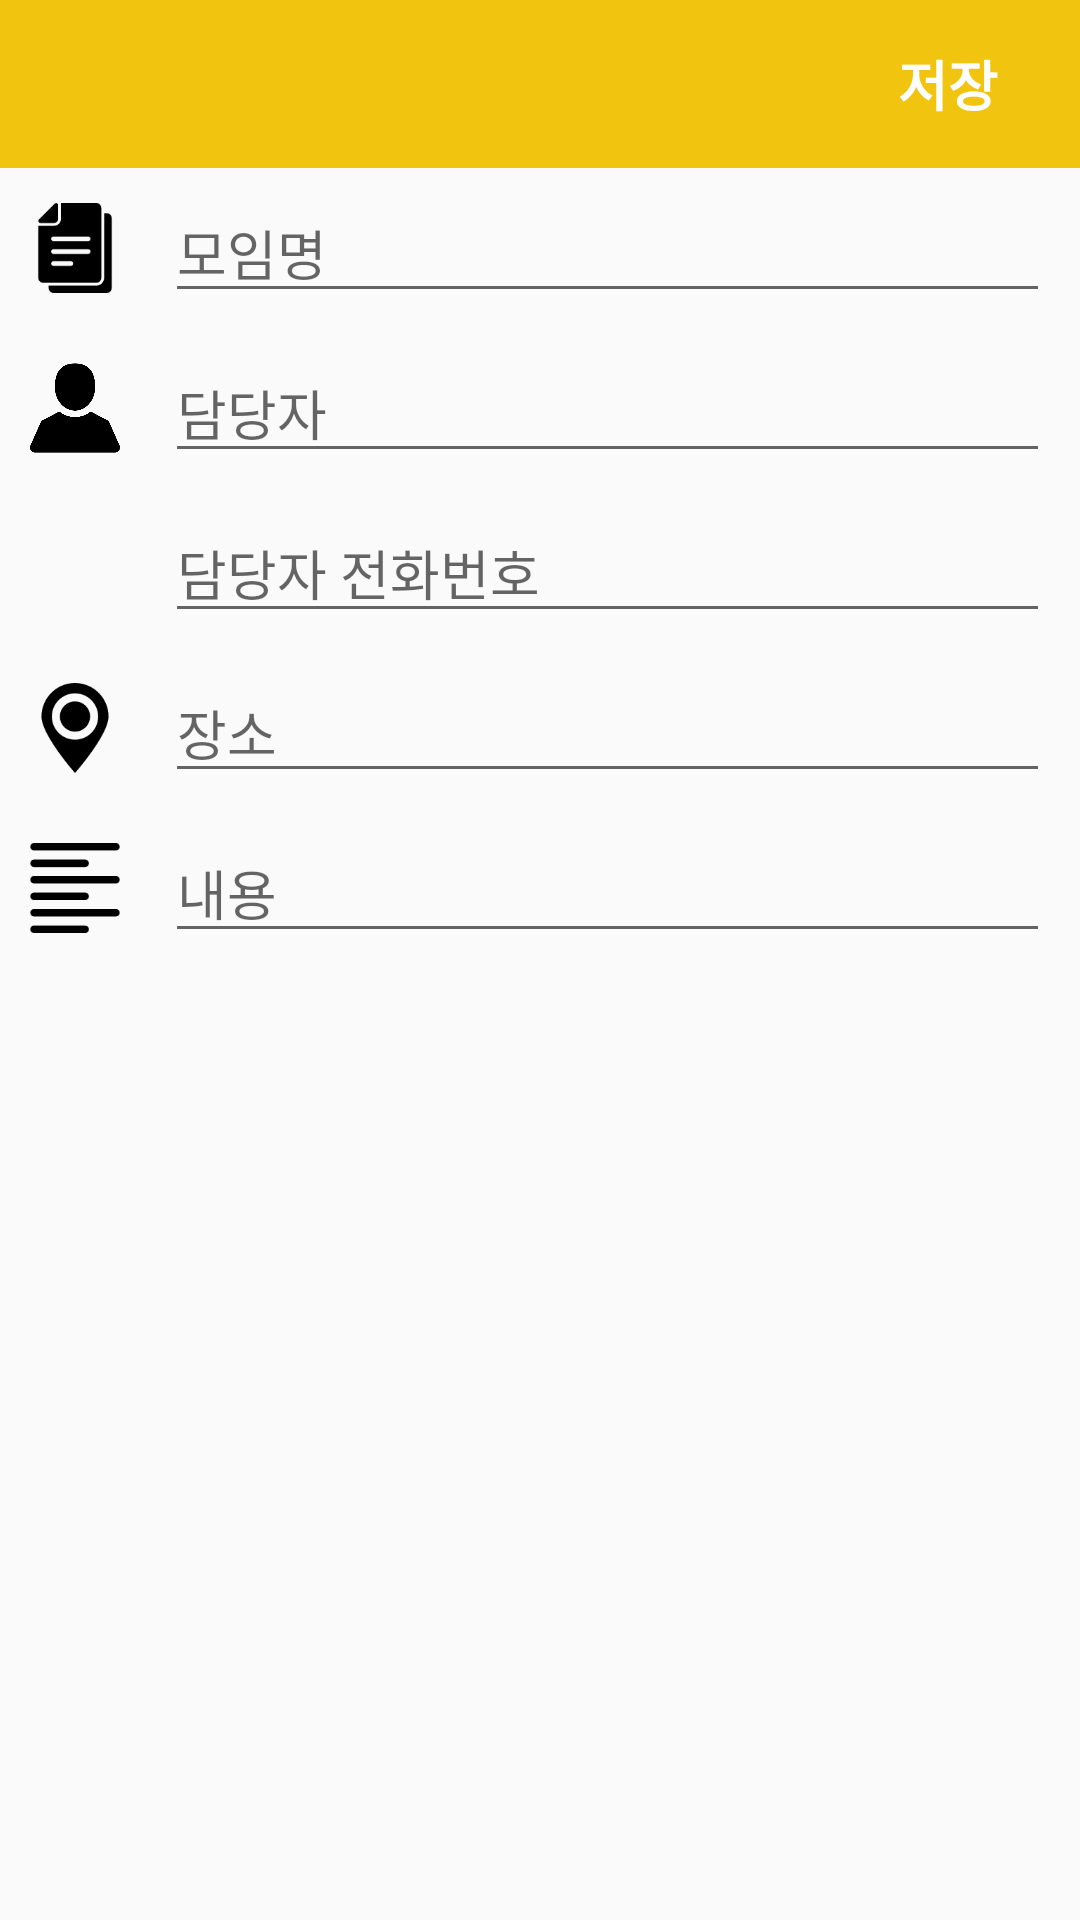

Icon bounding boxes for this 1080px x 1920px phone screenshot, format (x1, y1, x2, y2):
alignment: (30, 843, 120, 933)
file: (38, 203, 112, 293)
user: (30, 363, 120, 453)
